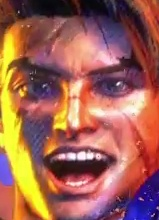kevin: (13, 13, 158, 219)
